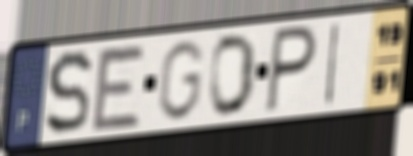E: (89, 43, 149, 135)
G: (154, 38, 207, 124)
I: (322, 20, 342, 109)
O: (207, 30, 259, 119)
P: (263, 22, 320, 115)
S: (43, 48, 95, 139)
